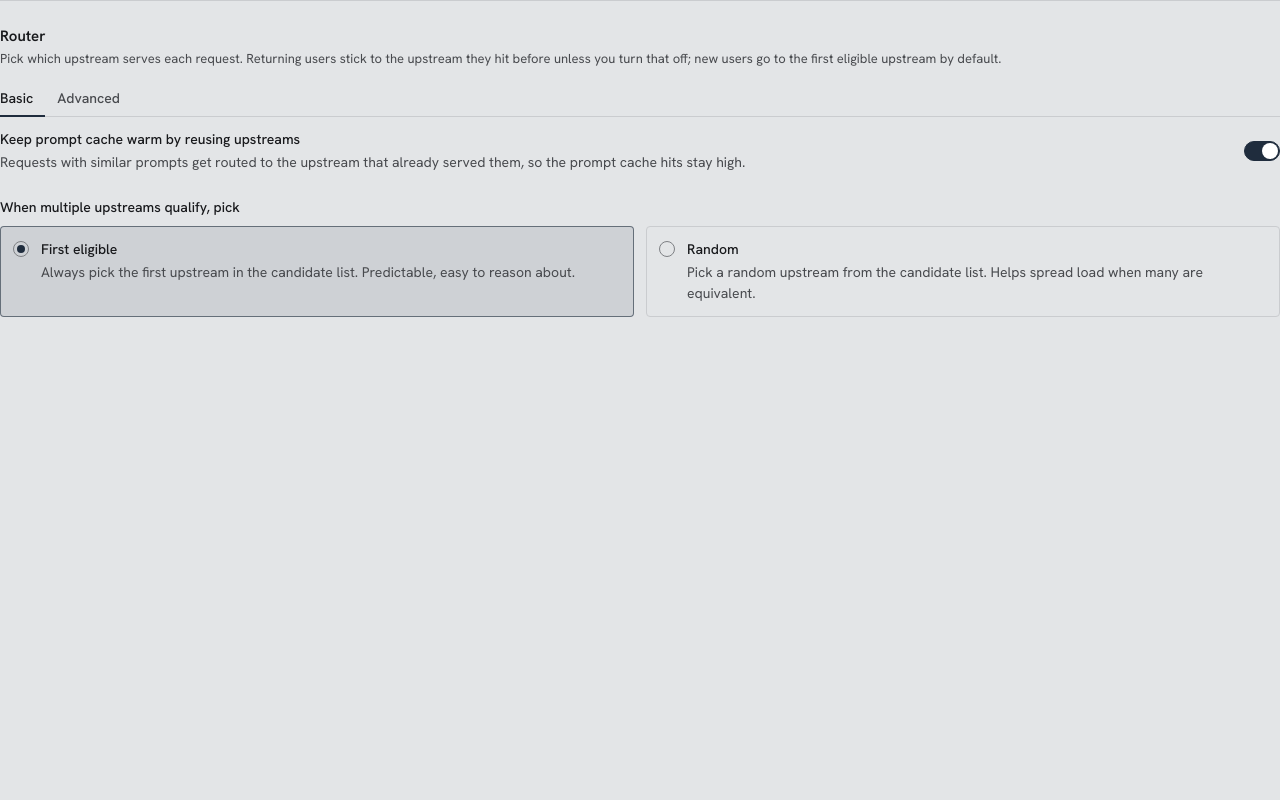
Test: picker disables already-in-chain entries
This screenshot has width=1280, height=800.
Note: Switch to Advanced tab
Click the tab "Advanced": click(89, 99) [45, 81, 132, 117]
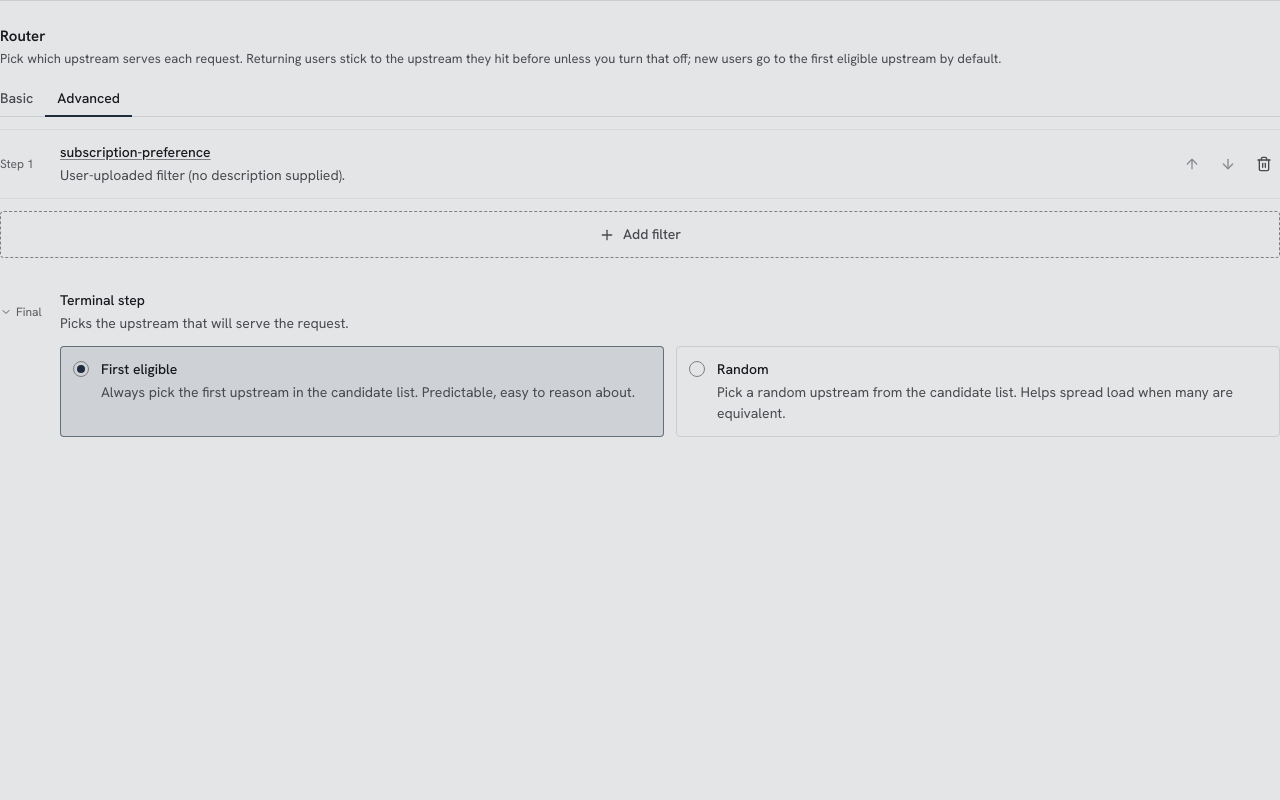
Note: Open picker
Click the button "Add filter": click(640, 234) [0, 211, 1279, 258]
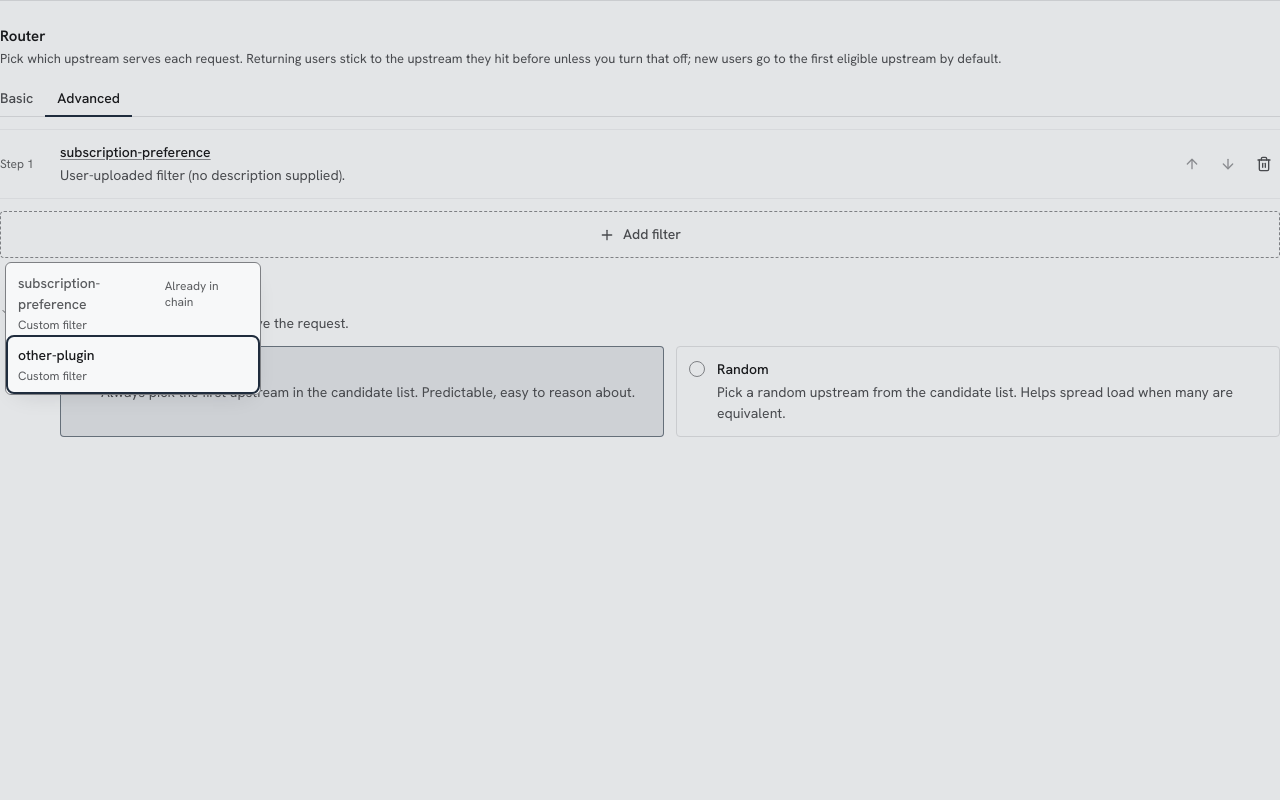
Check: the button "subscription-preference Already in chain Custom filter" is disabled, box [10, 267, 256, 339]
Check: the text "Already in chain" is shown, box [165, 278, 219, 310]
Check: the button "other-plugin Custom filter" is enabled, box [10, 339, 256, 390]
